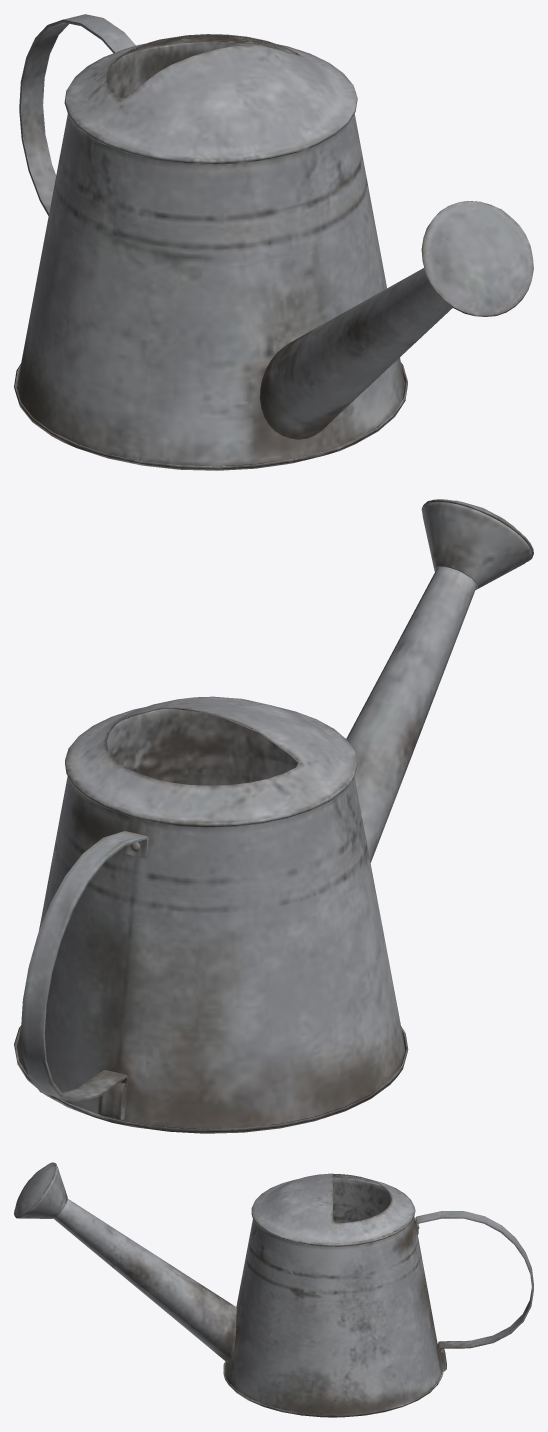
File: watering_can_metal_01.glb
The picture shows the model from 3 angles, top to bottom: view 1: azimuth 30°, elevation 25°; view 2: azimuth 150°, elevation 25°; view 3: azimuth 270°, elevation 25°; orthographic projection. The views are drawn at different scales.
Parts seen in each view (by area): view 1: watering_can_metal_01; view 2: watering_can_metal_01; view 3: watering_can_metal_01.
Part boxes in pixels (<box>): watering_can_metal_01: <box>14,14,533,470</box>; watering_can_metal_01: <box>14,499,533,1133</box>; watering_can_metal_01: <box>14,1162,533,1417</box>.
Bounding box in the file's own units: 0.191 × 0.1967 × 0.4522.
1 material, 1 textured.
